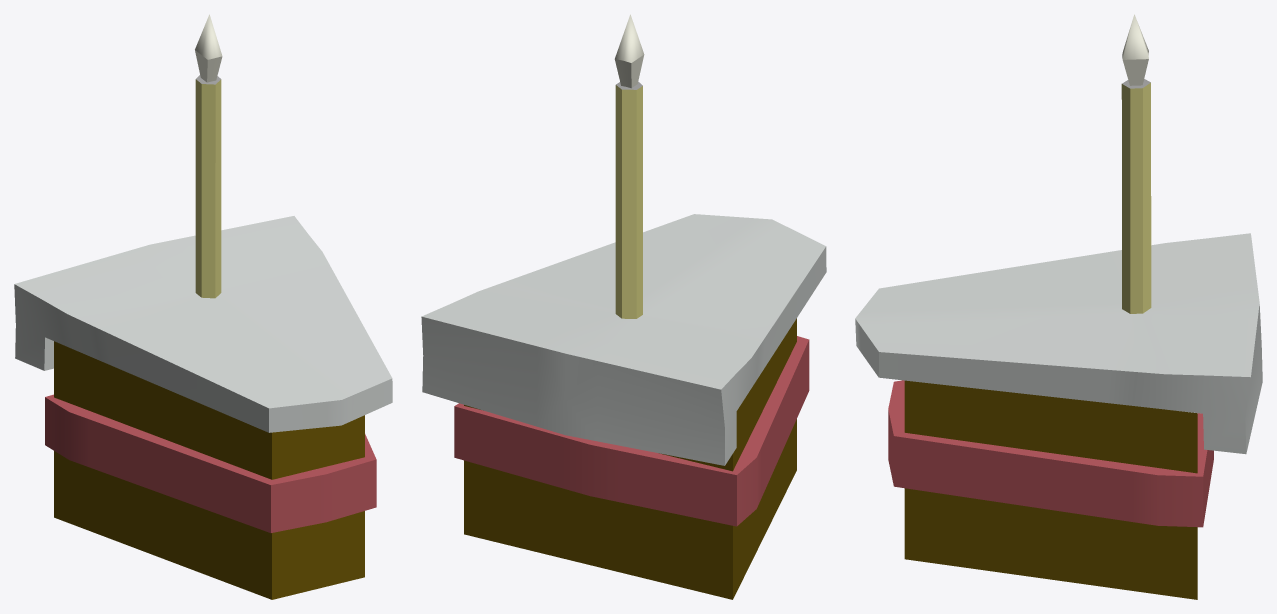
The model's file is gateau.fbx.
3 views of the same model, side by side, from view 1: azimuth 30°, elevation 25°; view 2: azimuth 150°, elevation 25°; view 3: azimuth 270°, elevation 25° (orthographic). The views are drawn at different scales.
Visible parts, largest first — view 1: gateau; view 2: gateau; view 3: gateau.
Part boxes in pixels (bbox=[...]): gateau: bbox=[14, 14, 392, 599]; gateau: bbox=[421, 14, 826, 599]; gateau: bbox=[855, 14, 1262, 599].
Bounding box in the file's own units: 73.14 × 122 × 86.68.
